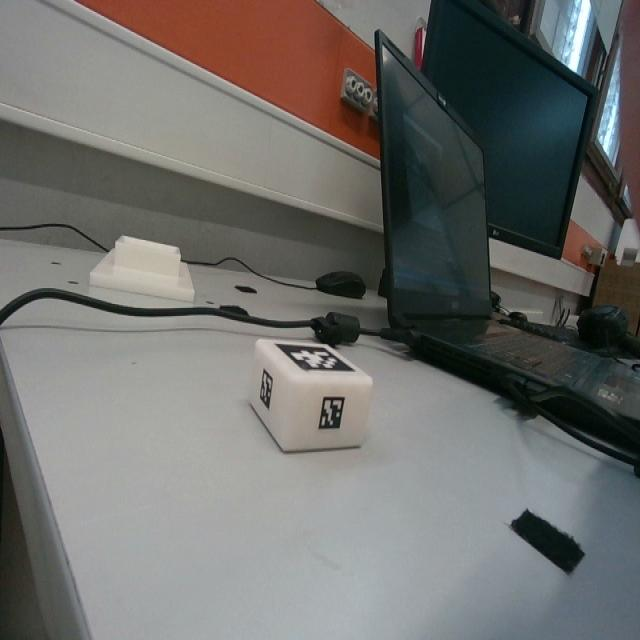Cube: (246, 340, 374, 456)
